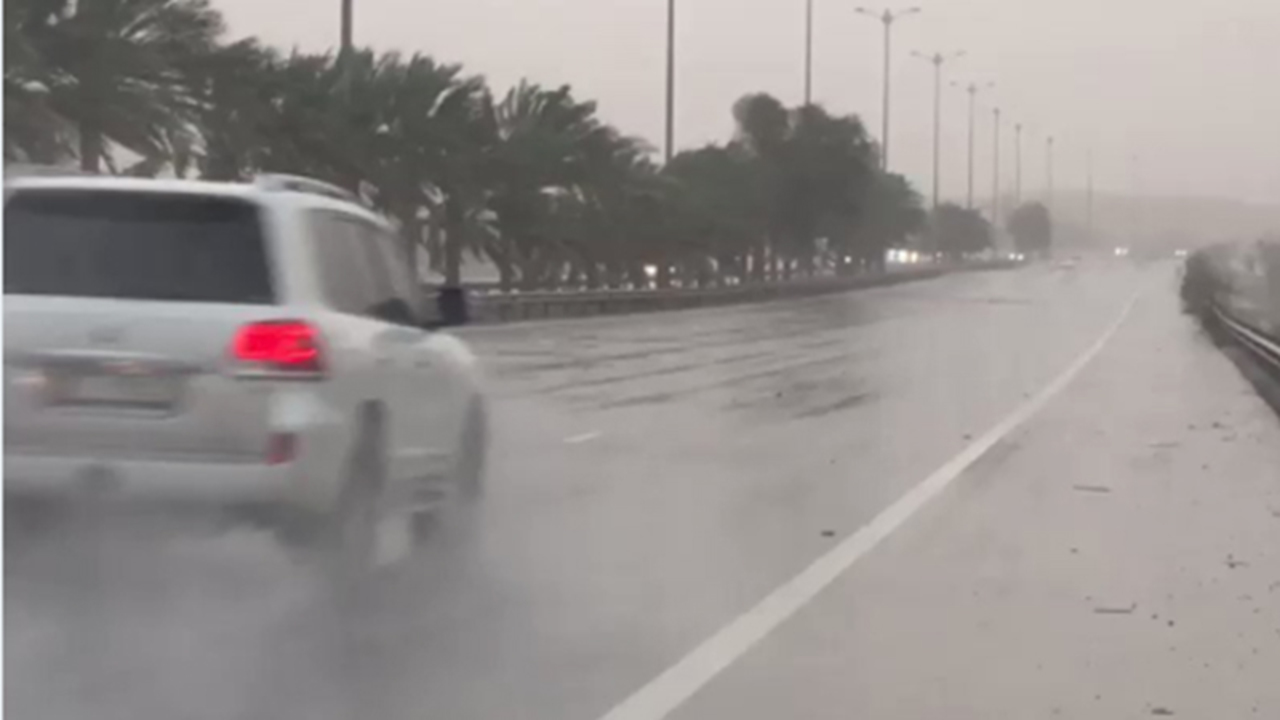car: (7, 158, 482, 594)
